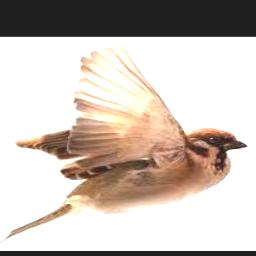Sparrow: (0, 43, 247, 243)
